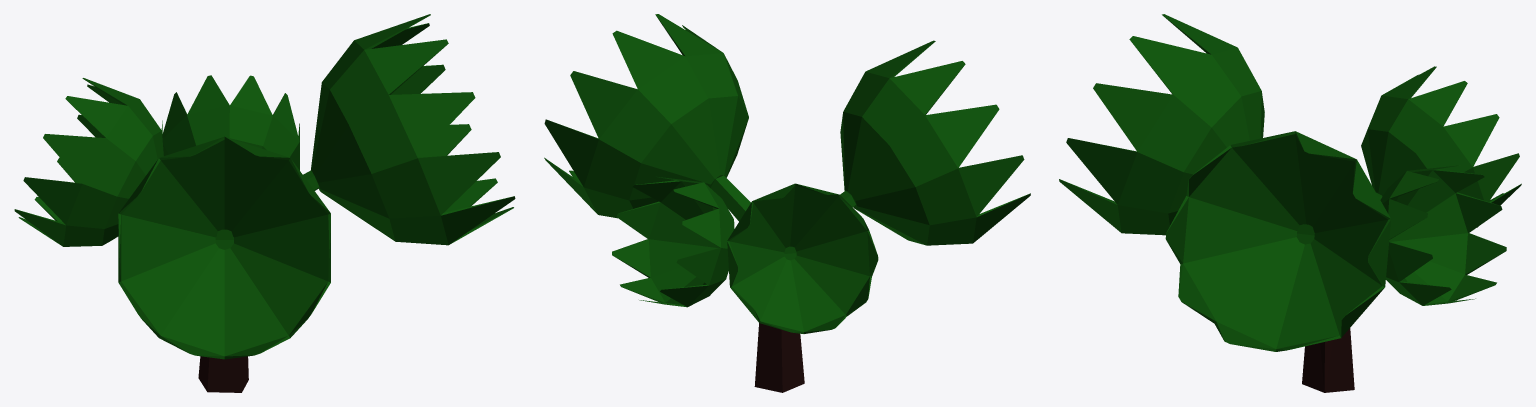
Rendered from Plant_01.obj.
3 views of the same model, side by side, from view 1: azimuth 30°, elevation 25°; view 2: azimuth 150°, elevation 25°; view 3: azimuth 270°, elevation 25° (orthographic). The views are drawn at different scales.
Visible parts, largest first — view 1: Plant_01_Cylinder.035; view 2: Plant_01_Cylinder.035; view 3: Plant_01_Cylinder.035.
Boxes of the visible parts, bbox=[...] form: Plant_01_Cylinder.035: bbox=[14, 14, 515, 392]; Plant_01_Cylinder.035: bbox=[544, 14, 1030, 392]; Plant_01_Cylinder.035: bbox=[1059, 14, 1521, 392].
Size of the model in its own units: 8.3 by 5.96 by 7.72.
